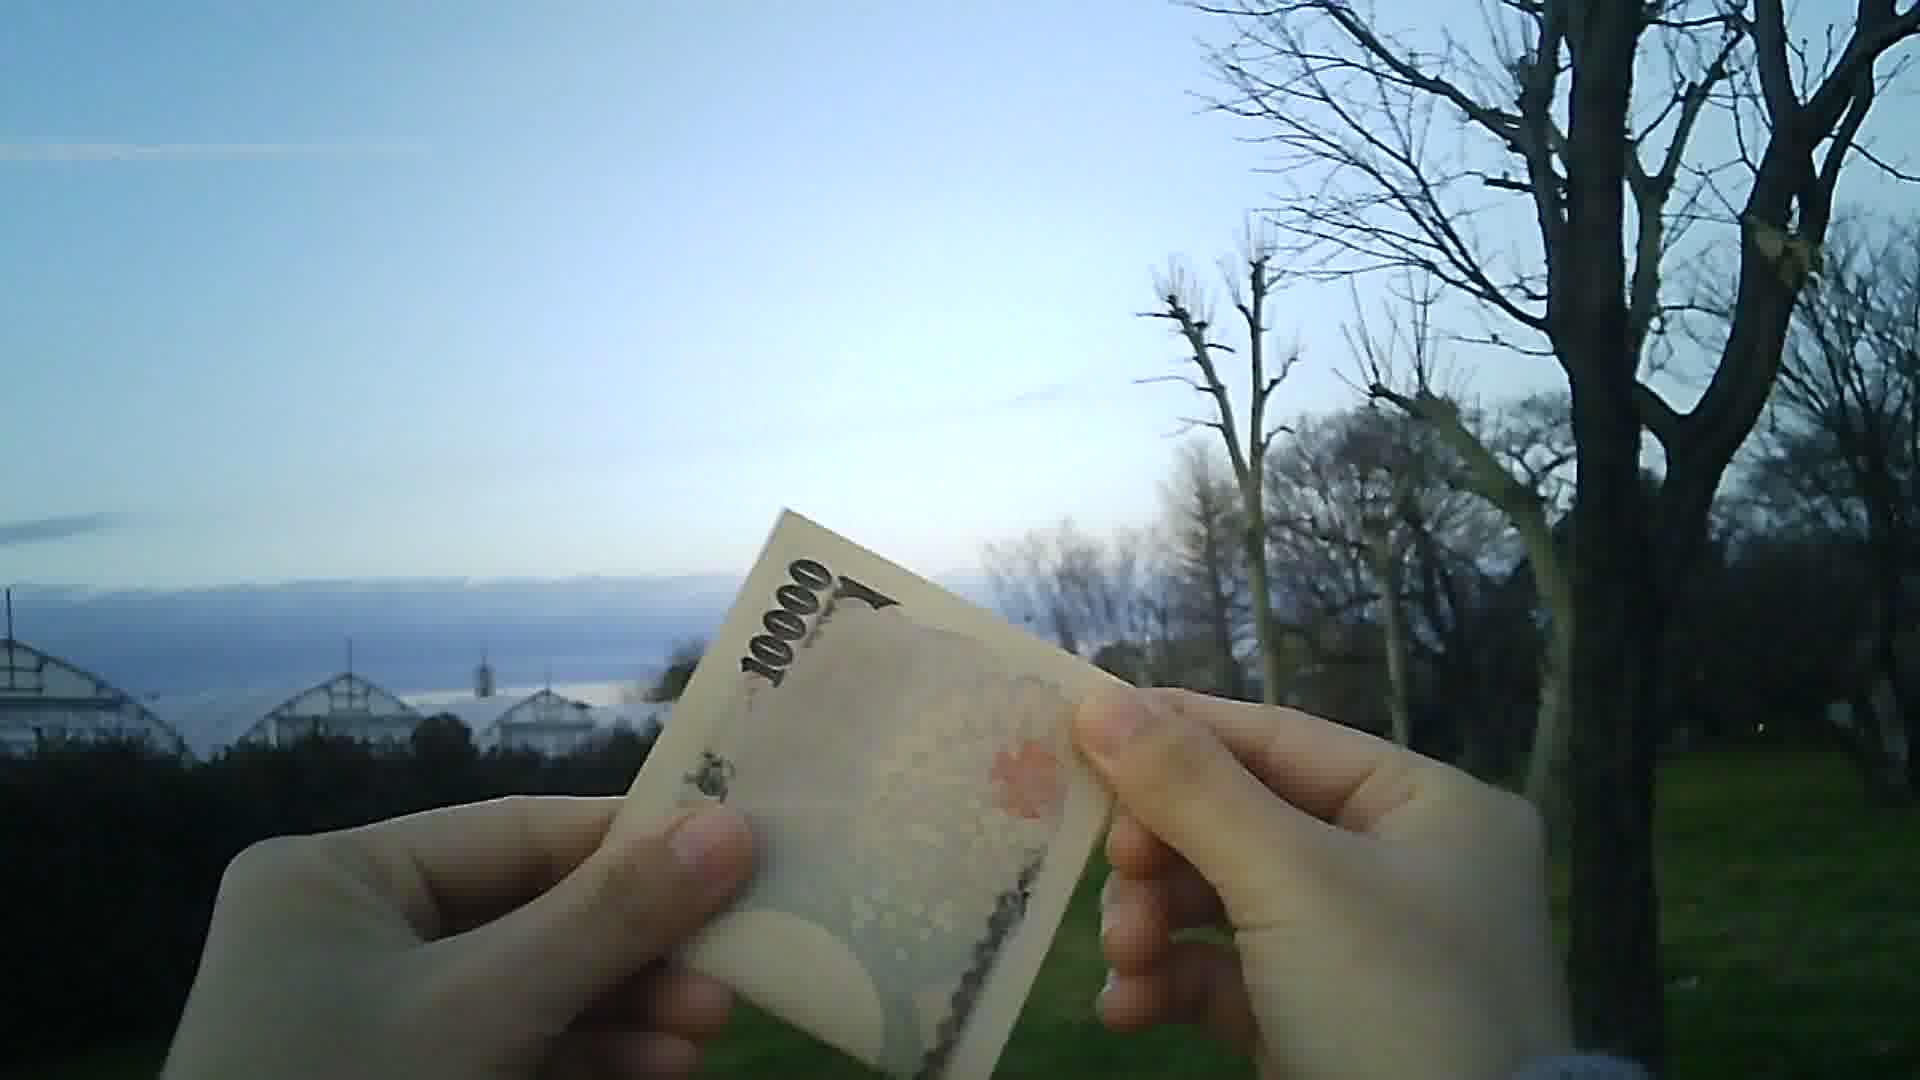10,000 Yen: (510, 487, 1193, 1079)
